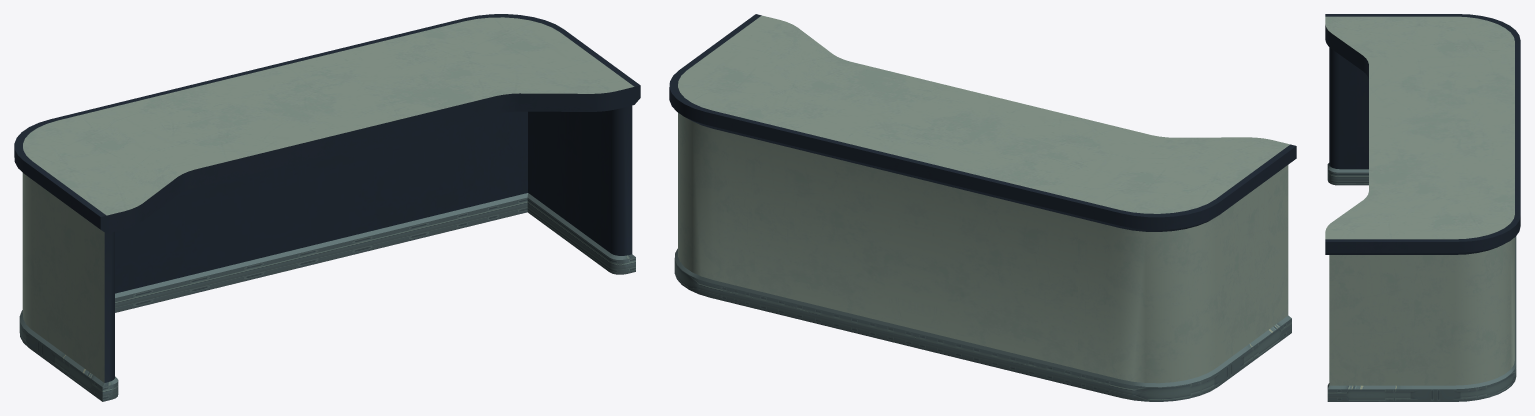
File: WorkDesk.gltf
3 views of the same model, side by side, from view 1: azimuth 30°, elevation 25°; view 2: azimuth 150°, elevation 25°; view 3: azimuth 270°, elevation 25° (orthographic). The views are drawn at different scales.
Visible parts, largest first — view 1: Prop_Desk_Medium; view 2: Prop_Desk_Medium; view 3: Prop_Desk_Medium.
Boxes of the visible parts, bbox=[...] form: Prop_Desk_Medium: bbox=[14, 14, 640, 401]; Prop_Desk_Medium: bbox=[669, 14, 1296, 401]; Prop_Desk_Medium: bbox=[1325, 14, 1520, 401].
Size of the model in its own units: 2.84 by 0.9396 by 1.03.
3 materials, 3 textured.
